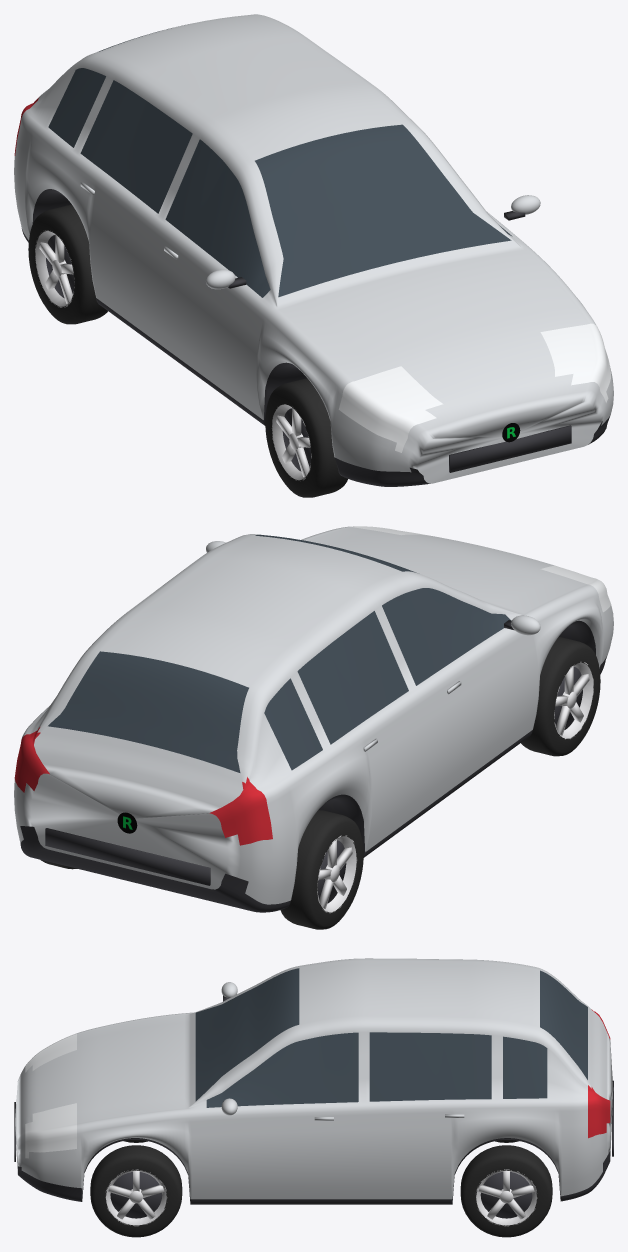
Rendered from new-fiesta.glb.
3 renders of one model, top to bottom at view 1: azimuth 30°, elevation 25°; view 2: azimuth 150°, elevation 25°; view 3: azimuth 270°, elevation 25°, orthographic. The views are drawn at different scales.
Visible parts, largest first — view 1: body, windows, headlights, wheel_FR_tire, wheel_RR_tire, trim, grille, wheel_FR_spokes, wheel_RR_spokes, wheel_RR_lip, wheel_FR_lip; view 2: body, windows, trim, wheel_RR_tire, wheel_FR_tire, taillights, rear_valance, headlights, wheel_RR_spokes, wheel_FR_spokes, wheel_RR_lip, wheel_FR_lip; view 3: body, windows, wheel_FL_tire, wheel_RL_tire, trim, headlights, wheel_FL_barrel, wheel_RL_barrel, taillights, wheel_RL_spokes, wheel_FL_spokes, wheel_RL_lip (+1 smaller).
Boxes of the visible parts, left/top/right/bottom form: body: left=14, top=14, right=613, bottom=483; windows: left=48, top=28, right=512, bottom=297; headlights: left=338, top=323, right=610, bottom=452; wheel_FR_tire: left=265, top=378, right=347, bottom=497; wheel_RR_tire: left=28, top=205, right=107, bottom=324; trim: left=21, top=189, right=610, bottom=486; grille: left=449, top=425, right=571, bottom=472; wheel_FR_spokes: left=276, top=407, right=310, bottom=477; wheel_RR_spokes: left=39, top=234, right=73, bottom=303; wheel_RR_lip: left=35, top=230, right=74, bottom=307; wheel_FR_lip: left=272, top=404, right=311, bottom=480; body: left=14, top=526, right=613, bottom=904; windows: left=48, top=534, right=510, bottom=772; trim: left=20, top=620, right=607, bottom=912; wheel_RR_tire: left=280, top=810, right=363, bottom=929; wheel_FR_tire: left=521, top=637, right=600, bottom=756; taillights: left=14, top=727, right=272, bottom=845; rear_valance: left=45, top=828, right=210, bottom=885; headlights: left=352, top=526, right=610, bottom=612; wheel_RR_spokes: left=318, top=839, right=352, bottom=908; wheel_FR_spokes: left=555, top=666, right=589, bottom=735; wheel_RR_lip: left=317, top=835, right=357, bottom=913; wheel_FR_lip: left=554, top=662, right=593, bottom=739; body: left=15, top=958, right=613, bottom=1199; windows: left=195, top=968, right=587, bottom=1107; wheel_FL_tire: left=90, top=1145, right=182, bottom=1237; wheel_RL_tire: left=460, top=1145, right=552, bottom=1237; trim: left=18, top=1138, right=610, bottom=1204; headlights: left=25, top=1033, right=76, bottom=1158; wheel_FL_barrel: left=110, top=1172, right=162, bottom=1218; wheel_RL_barrel: left=480, top=1172, right=532, bottom=1218; taillights: left=588, top=1009, right=610, bottom=1138; wheel_RL_spokes: left=478, top=1170, right=534, bottom=1219; wheel_FL_spokes: left=108, top=1170, right=164, bottom=1219; wheel_RL_lip: left=476, top=1169, right=537, bottom=1226.
Size of the model in its own units: 2.03 by 1.5 by 4.05.
Materials: 9 (1 with a texture image).
